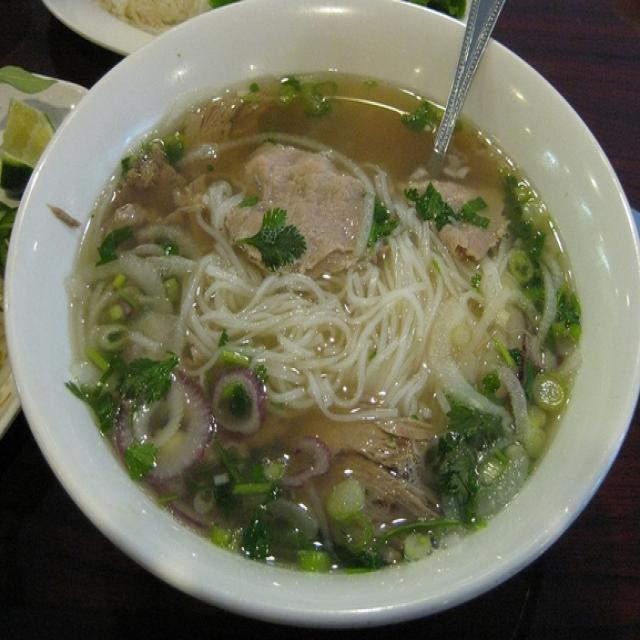面条主食: (16, 13, 631, 628)
